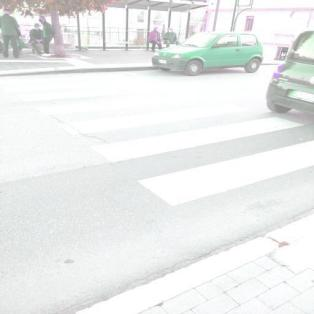Paso de Cebra: (52, 101, 310, 165)
